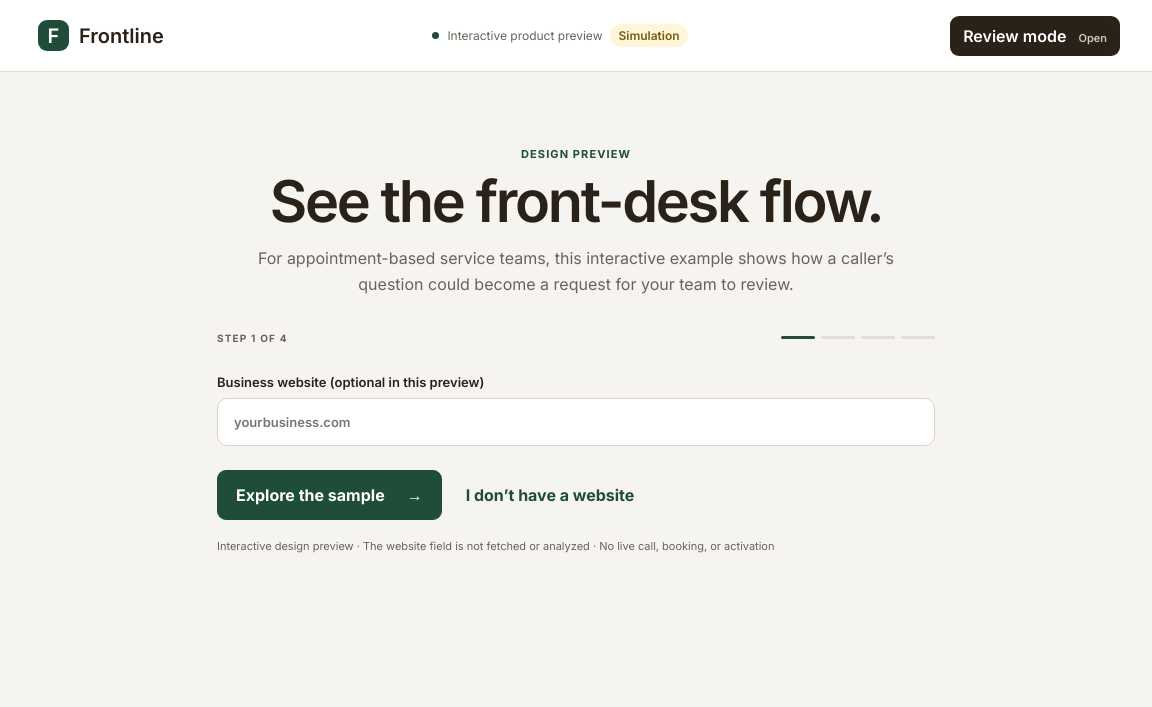
Test case: keeps the entered website when an internal review preparation fails and the reviewer goes back
Type "mybusiness.example" into the field labelled "Business website (optional in this preview)" at (576, 422), box [217,398,935,446]
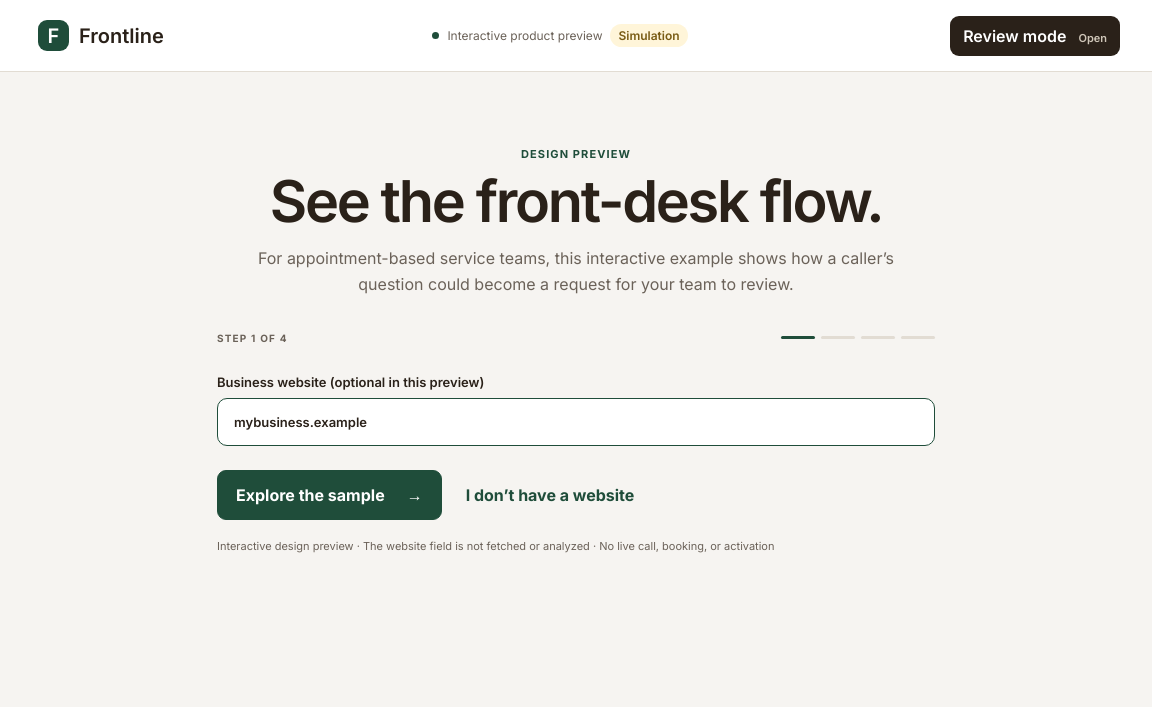
Click the button "Explore the sample →" at (329, 494), box [217,470,442,520]
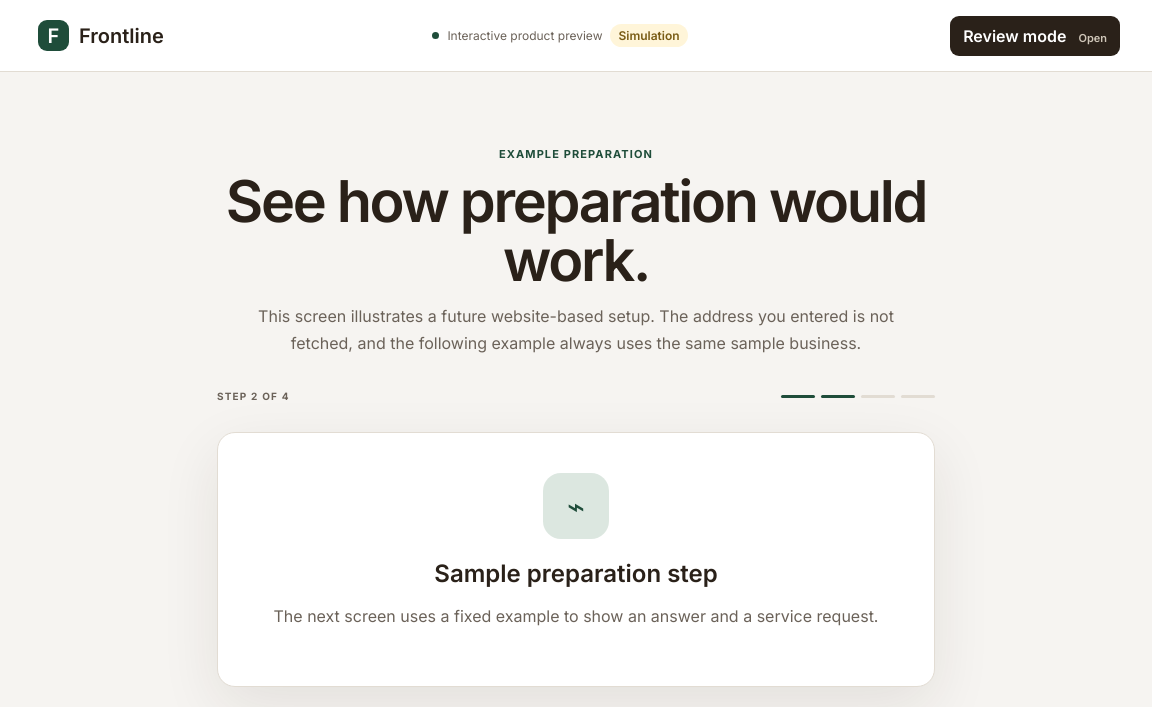
Click the button "Review mode Open" at (1035, 36), box [950,16,1120,56]
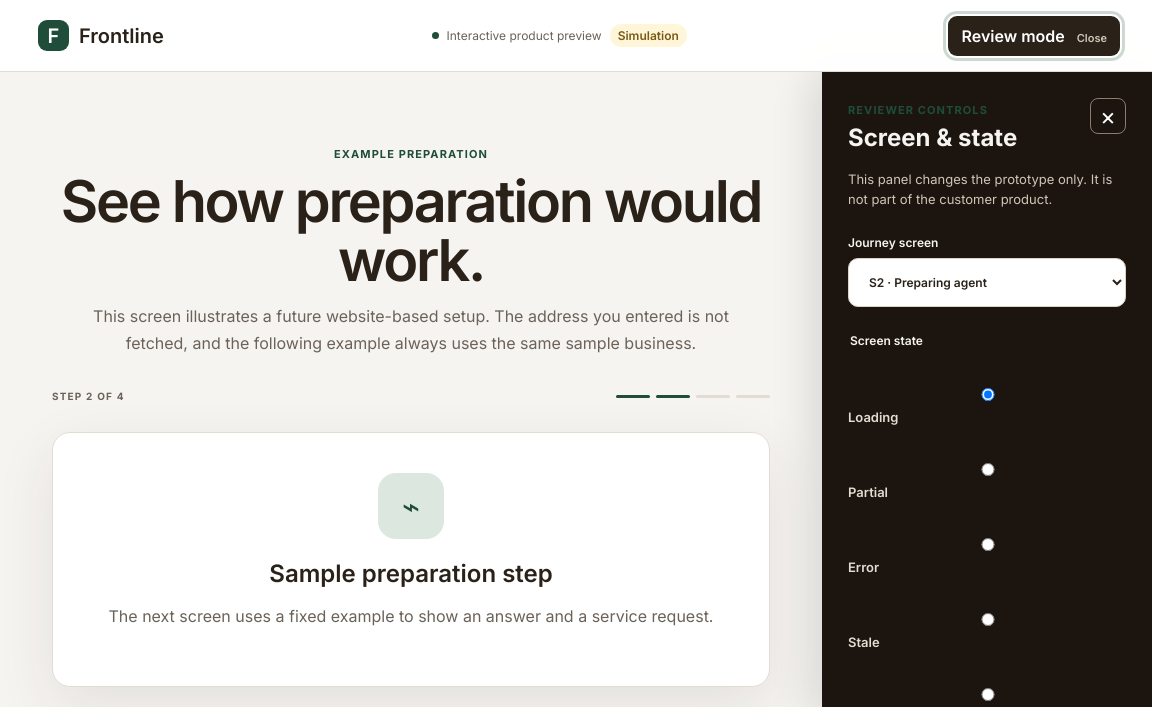
Click the radio button labelled "error" at (988, 544), box [853,538,1123,551]
(page scrolled)
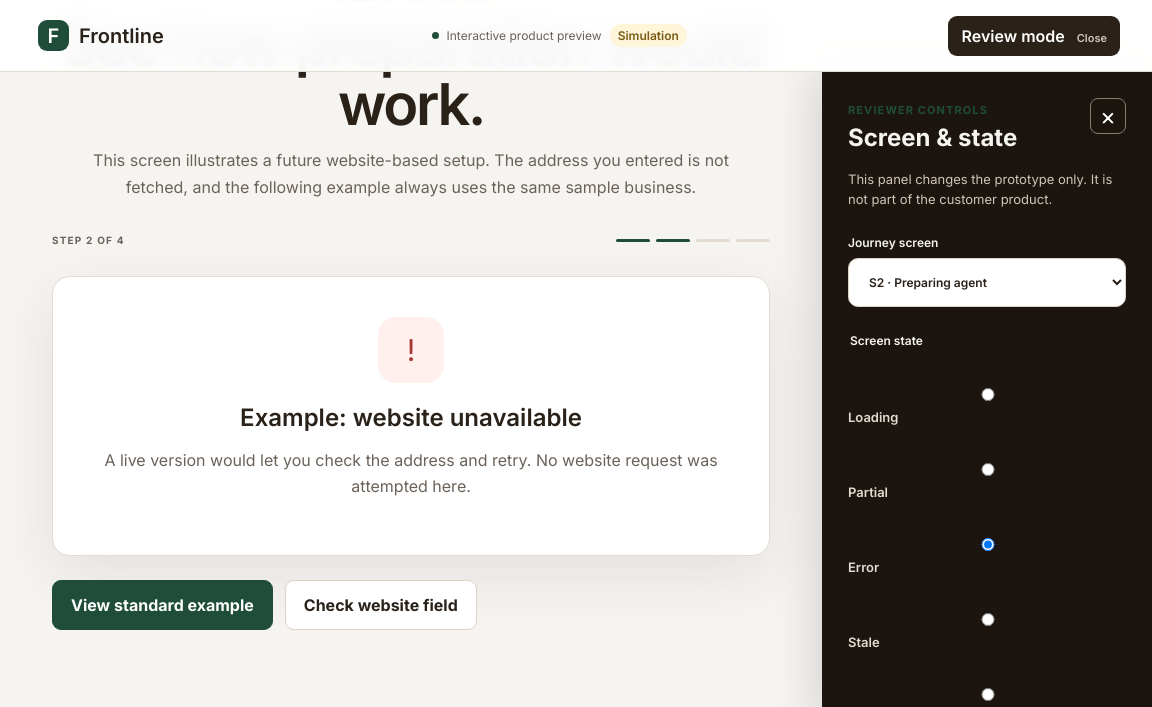
Click the button "Check website field" at (381, 605), box [285,580,477,630]
(page scrolled)
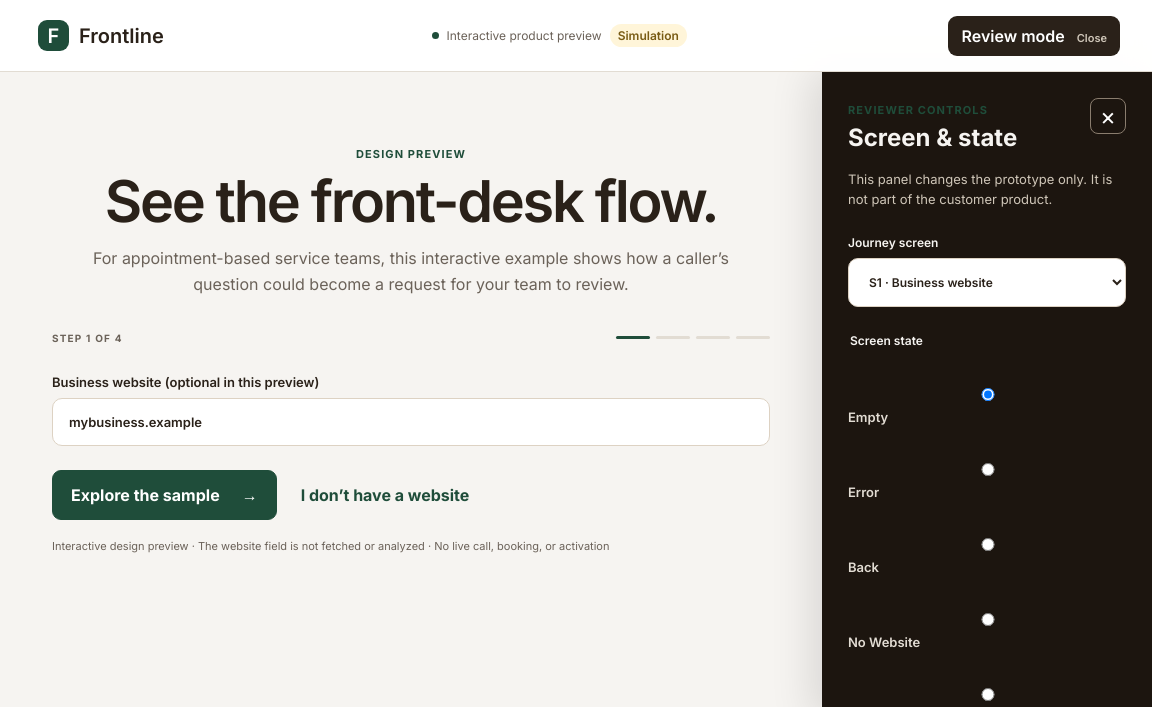
Expected: the field labelled "Business website (optional in this preview)" holds "mybusiness.example", [52,398,770,446]
